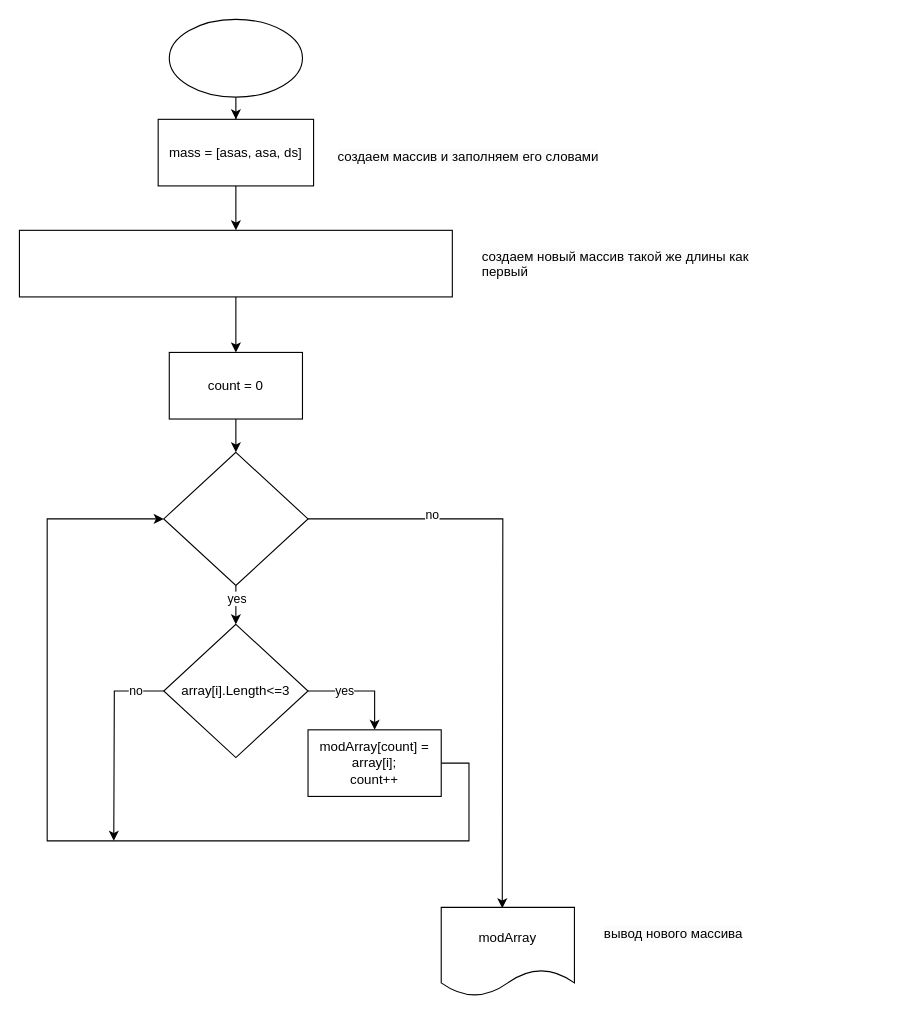
Image size: 921x1016. Some labels were removed from this diagram. Here are the shapes that lost their labels. From the top down, the centre of each, then its label:
point 235,57: Start
point 235,263: modArray = new string [array.Length];
point 235,518: i<array.Length
